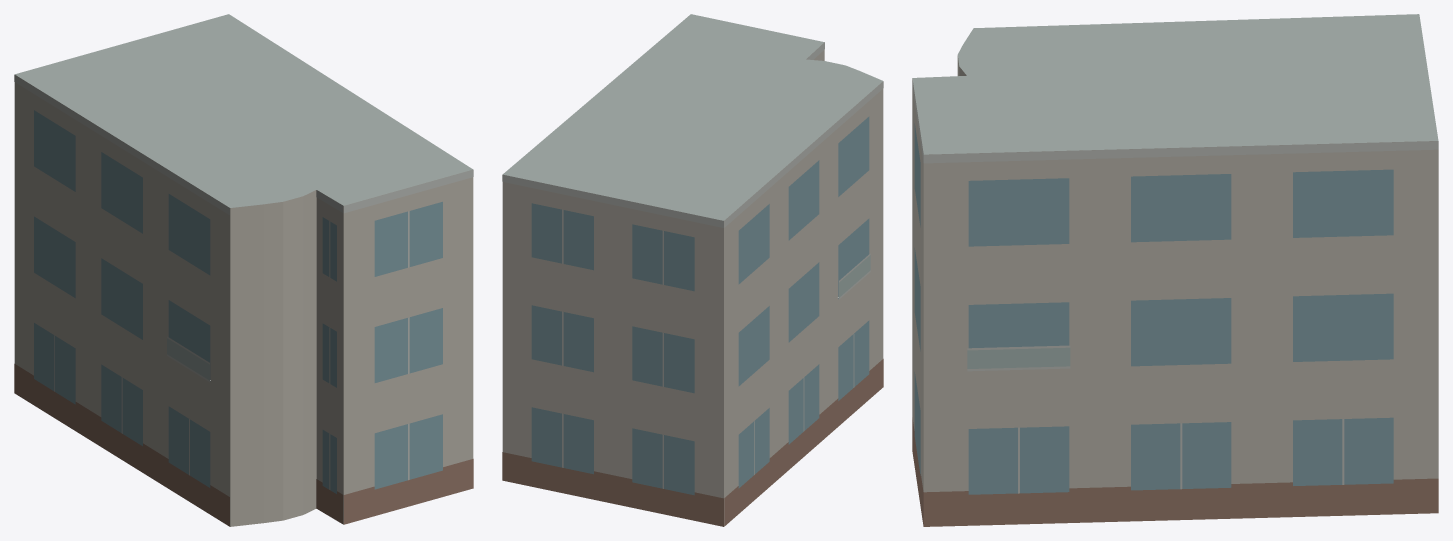
The model's file is survey-upis-32737456.glb.
3 renders of one model, left to right at view 1: azimuth 30°, elevation 25°; view 2: azimuth 150°, elevation 25°; view 3: azimuth 270°, elevation 25°, orthographic. The views are drawn at different scales.
Visible parts, largest first — view 1: survey-upis-32737456.tmp; view 2: survey-upis-32737456.tmp; view 3: survey-upis-32737456.tmp.
Boxes of the visible parts, x1,y1,x2,y2 form: survey-upis-32737456.tmp: (14, 14, 473, 526); survey-upis-32737456.tmp: (502, 14, 883, 526); survey-upis-32737456.tmp: (912, 14, 1438, 526).
Size of the model in its own units: 8.35 by 10.3 by 13.2.
